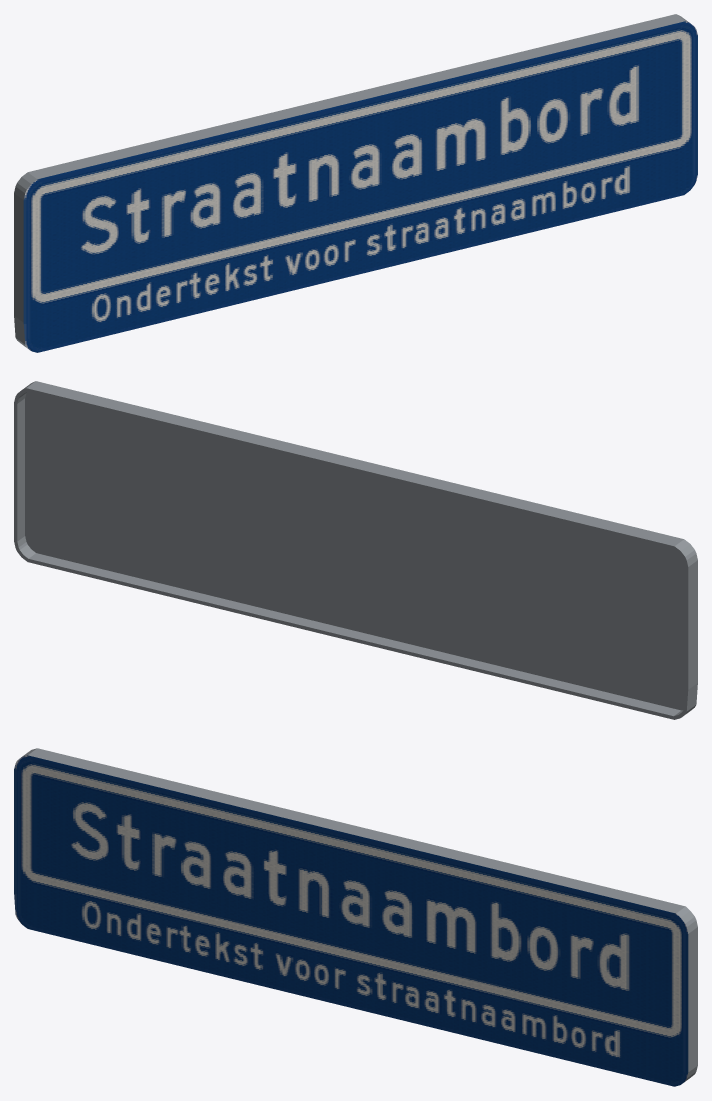
3 renders of one model, top to bottom at view 1: azimuth 30°, elevation 25°; view 2: azimuth 150°, elevation 25°; view 3: azimuth 330°, elevation 25°, orthographic.
Parts seen in each view (by area): view 1: cat_c742eaa430dd09d1; view 2: cat_c742eaa430dd09d1; view 3: cat_c742eaa430dd09d1.
Part boxes in pixels (box(x1,y1,x2,y2)): cat_c742eaa430dd09d1: box(14, 14, 697, 352); cat_c742eaa430dd09d1: box(14, 381, 697, 719); cat_c742eaa430dd09d1: box(14, 748, 697, 1086).
Bounding box in the file's own units: 0.6 × 0.015 × 0.1476.
2 materials, 1 textured.
